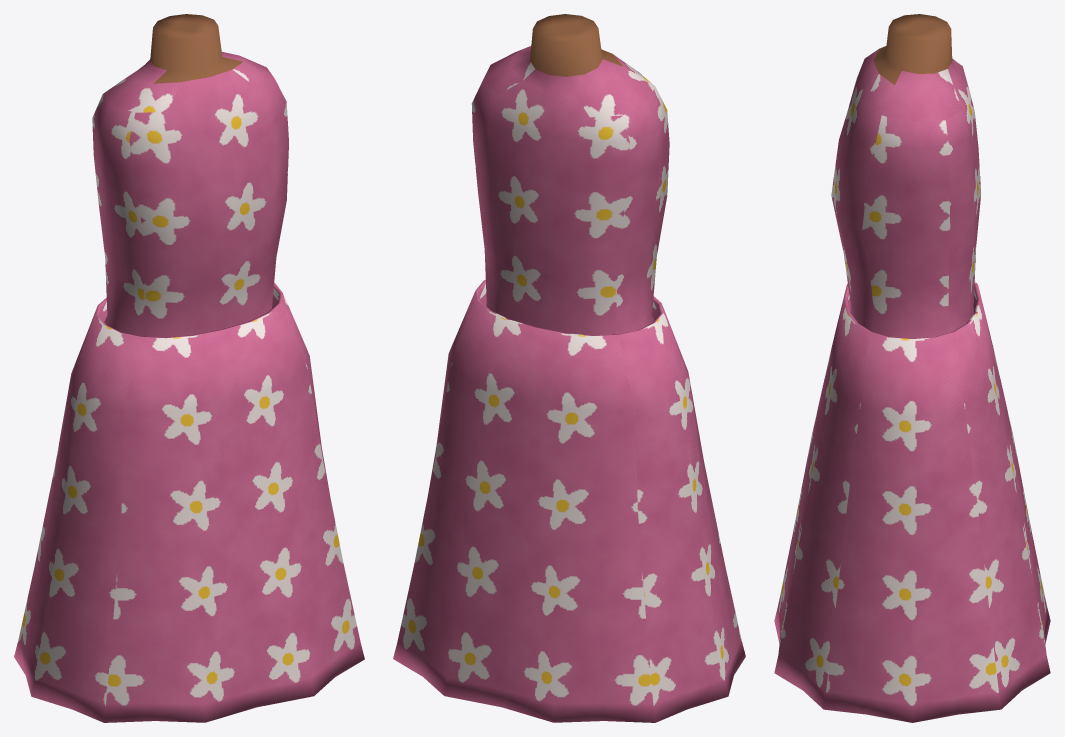
File: torso.obj
3 views of the same model, side by side, from view 1: azimuth 30°, elevation 25°; view 2: azimuth 150°, elevation 25°; view 3: azimuth 270°, elevation 25° (orthographic). The views are drawn at different scales.
Parts seen in each view (by area): view 1: Falda, Torso; view 2: Falda, Torso; view 3: Falda, Torso.
Part boxes in pixels (x1,y1,x2,y2): Falda: [14, 283, 364, 722]; Torso: [92, 14, 288, 337]; Falda: [393, 280, 745, 722]; Torso: [471, 14, 669, 335]; Falda: [774, 281, 1050, 722]; Torso: [831, 14, 980, 338].
Size of the model in its own units: 0.3628 by 0.691 by 0.2787.
Materials: 2 (2 with a texture image).
